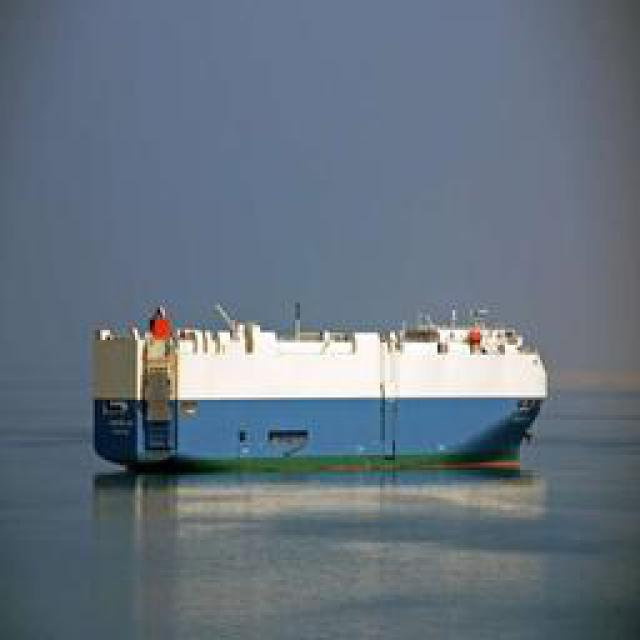Ship: (90, 309, 550, 479)
